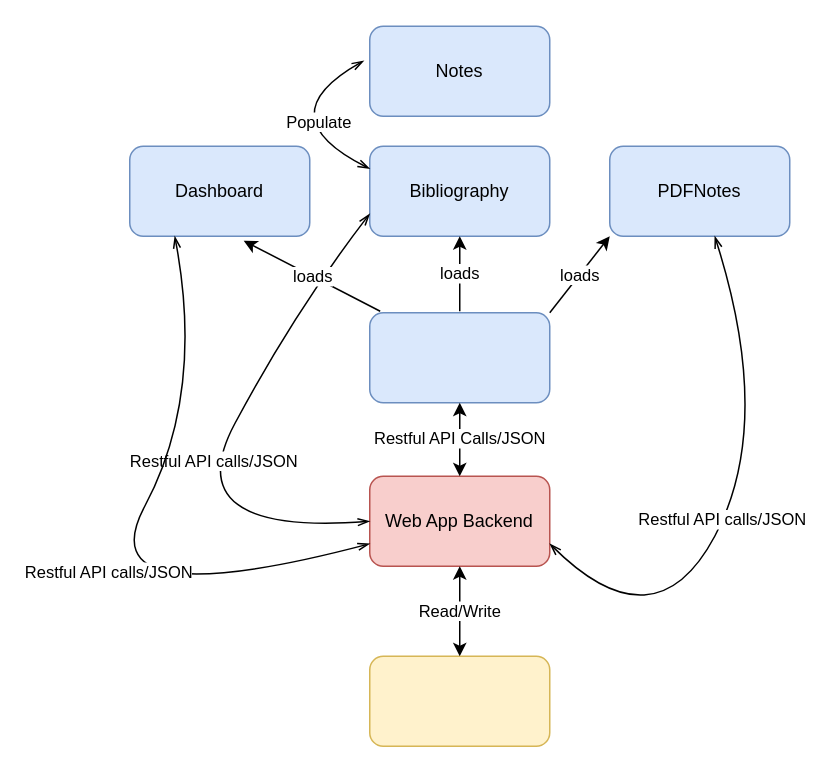
Image size: 833x773. Some labels were removed from this diagram. The shapes that lost their labels are listed below. From the top down, each one's box as (x1, y1, x2, y2) in pixels, then its label:
(368, 311, 550, 403): React JS Frontend
(368, 655, 550, 746): Relation Database
